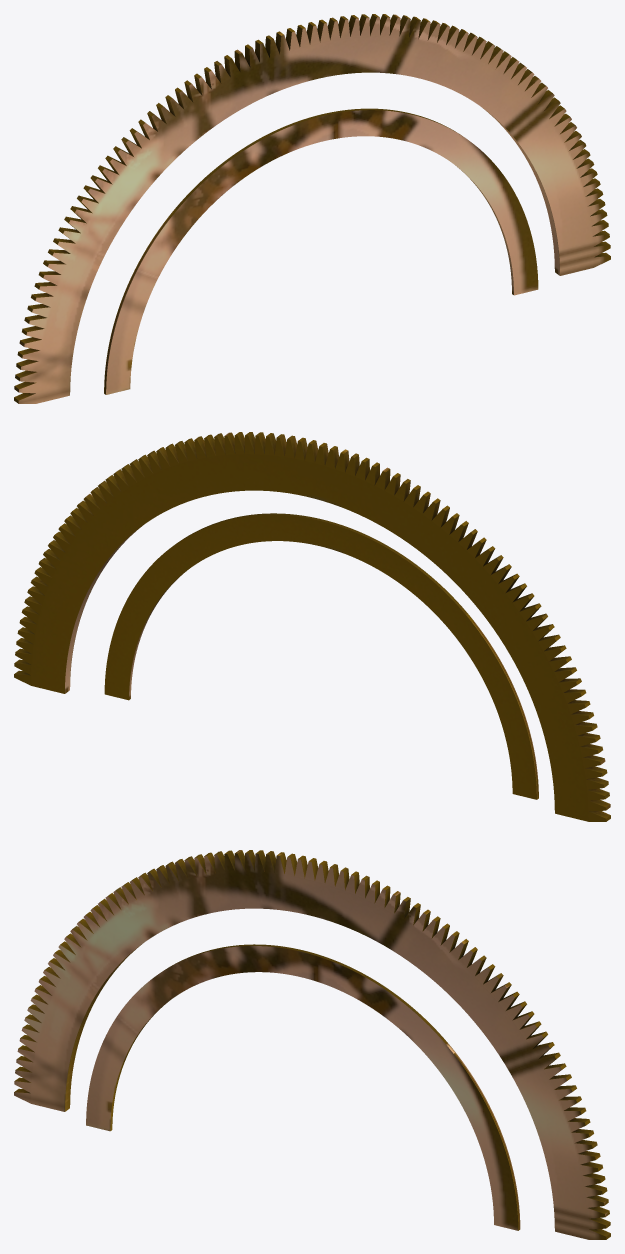
File: arco_gris.obj
3 renders of one model, top to bottom at view 1: azimuth 30°, elevation 25°; view 2: azimuth 150°, elevation 25°; view 3: azimuth 330°, elevation 25°, orthographic.
Visible parts, largest first — view 1: Arco_gris_Big_Clock; view 2: Arco_gris_Big_Clock; view 3: Arco_gris_Big_Clock.
Part boxes in pixels (x1,y1,x2,y2): Arco_gris_Big_Clock: (14,14,610,403); Arco_gris_Big_Clock: (14,432,610,821); Arco_gris_Big_Clock: (14,850,610,1239).
Bounding box in the file's own units: 6.22 × 3.12 × 0.2296.
